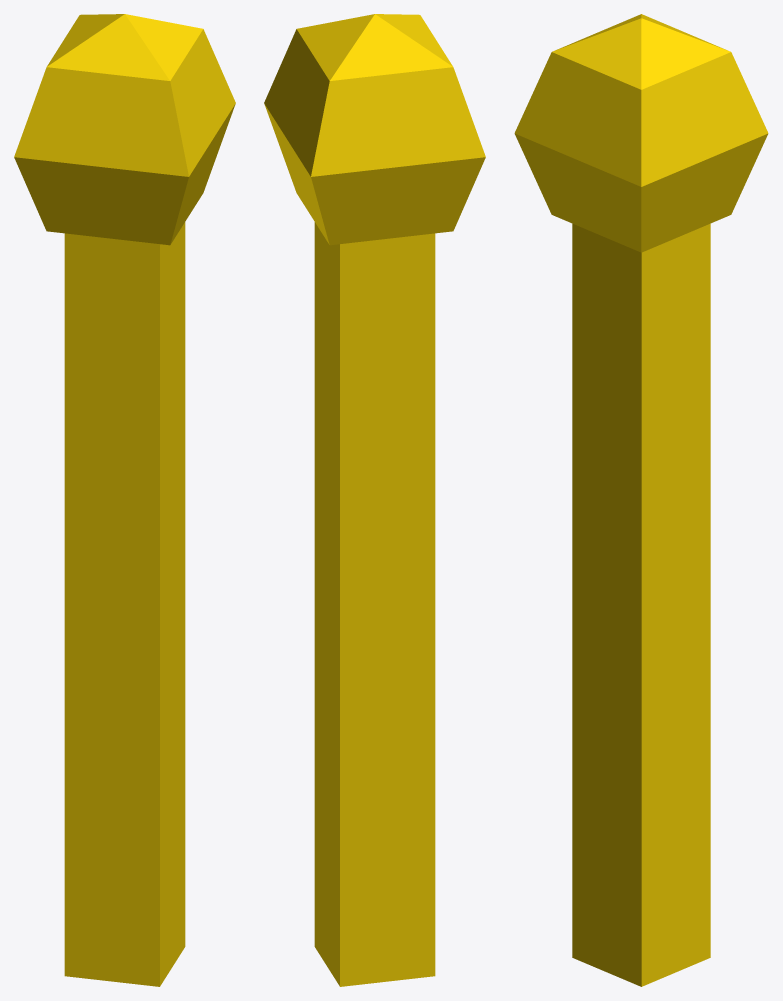
Rendered from GeländerSteher [Gelb]_2002.glb.
3 renders of one model, left to right at view 1: azimuth 30°, elevation 25°; view 2: azimuth 150°, elevation 25°; view 3: azimuth 270°, elevation 25°, orthographic.
Parts seen in each view (by area): view 1: pCylinderShape1, pSphereShape1; view 2: pCylinderShape1, pSphereShape1; view 3: pCylinderShape1, pSphereShape1.
Boxes of the visible parts, x1,y1,x2,y2 form: pCylinderShape1: (64,222,185,986); pSphereShape1: (14,14,235,245); pCylinderShape1: (314,222,435,986); pSphereShape1: (264,14,485,245); pCylinderShape1: (572,223,710,986); pSphereShape1: (514,14,768,252).
Bounding box in the file's own units: 0.0446 × 0.1821 × 0.0446.
